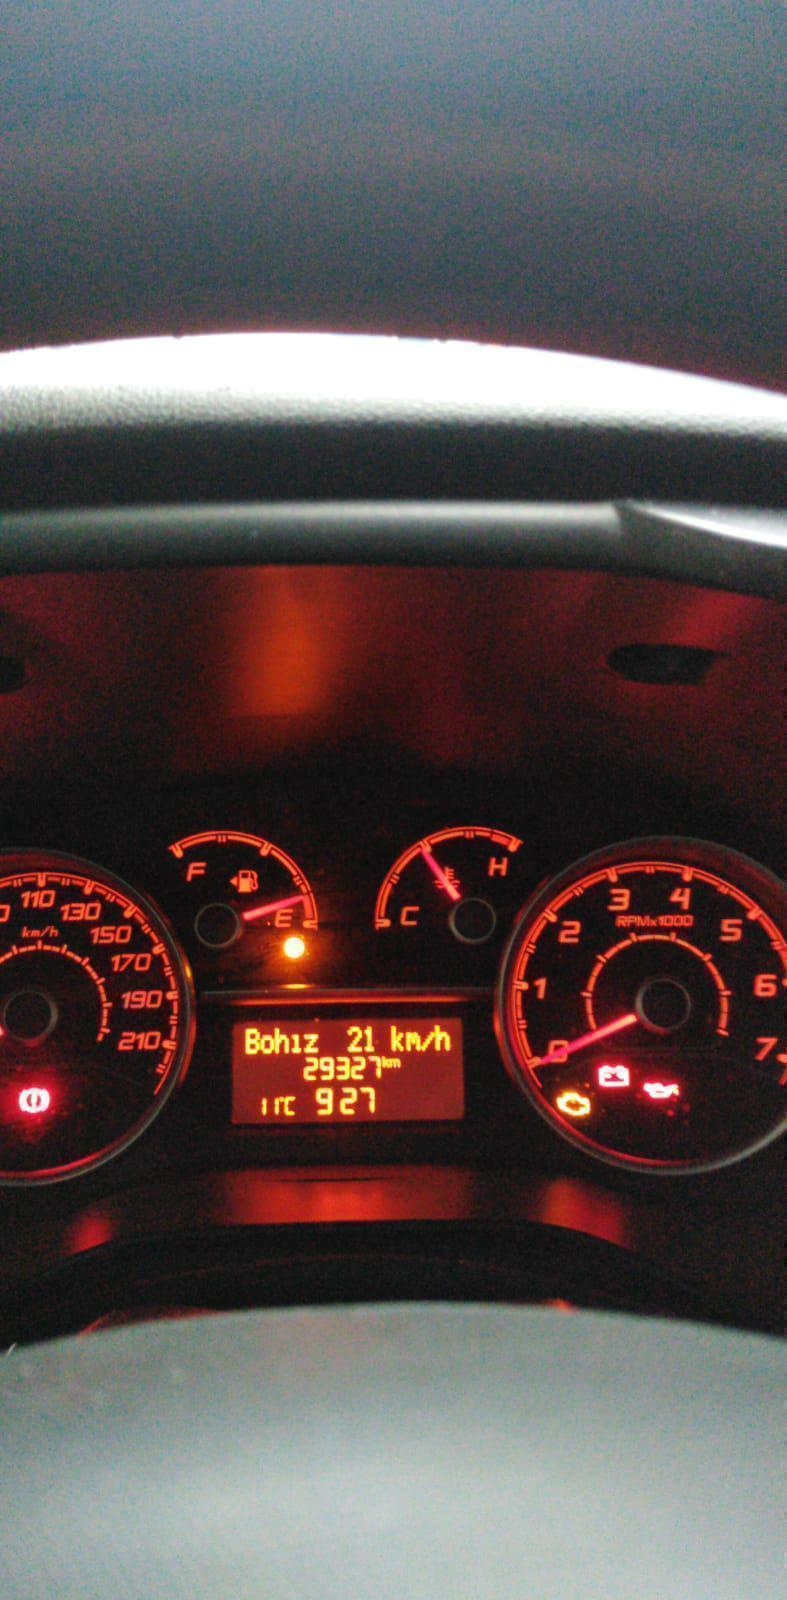1: (363, 1024, 376, 1053), (258, 1095, 269, 1118), (272, 1096, 280, 1119)
2: (339, 1084, 357, 1116), (346, 1024, 362, 1053), (350, 1054, 366, 1081), (302, 1056, 319, 1080)
3: (336, 1054, 350, 1079)
7: (359, 1085, 377, 1116), (368, 1055, 381, 1081)
9: (314, 1085, 333, 1117), (319, 1055, 335, 1082)
X: (433, 1024, 451, 1052), (244, 1026, 259, 1057), (274, 1024, 289, 1055), (404, 1029, 421, 1053), (390, 1024, 404, 1052), (303, 1031, 319, 1054), (284, 1095, 298, 1117), (290, 1030, 302, 1055), (259, 1033, 273, 1056), (420, 1030, 433, 1051), (389, 1057, 400, 1069), (381, 1054, 389, 1068)
odometer: (228, 1018, 468, 1124)
